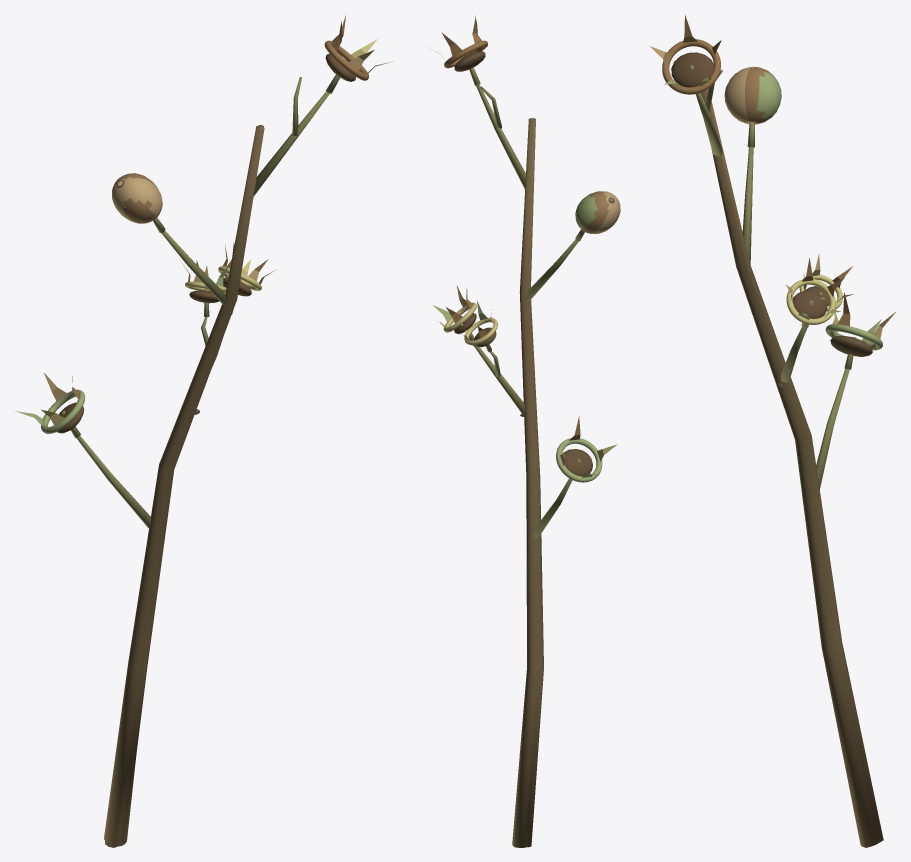
Rendered from branch_variant_C_mixed_brown_01.dae.
3 views of the same model, side by side, from view 1: azimuth 30°, elevation 25°; view 2: azimuth 150°, elevation 25°; view 3: azimuth 270°, elevation 25° (orthographic). The views are drawn at different scales.
Parts seen in each view (by area): view 1: branch_main_C_01, brown_boll_C_01, socket_C_01, socket_C_04, branch_side_C_04, branch_side_C_01, socket_C_03, branch_side_C_03; view 2: branch_main_C_01, socket_C_01, brown_boll_C_01, socket_C_04, socket_C_03, branch_side_C_04, socket_C_02, branch_side_C_03, branch_side_C_02, branch_side_C_01; view 3: branch_main_C_01, socket_C_04, brown_boll_C_01, socket_C_03, socket_C_01, branch_side_C_01, branch_side_C_03, socket_C_02, branch_side_C_04, branch_side_C_02.
Part boxes in pixels (x1=…): branch_main_C_01: x1=104, y1=125, x2=264, y2=847; brown_boll_C_01: x1=112, y1=173, x2=162, y2=223; socket_C_01: x1=15, y1=372, x2=85, y2=433; socket_C_04: x1=324, y1=15, x2=392, y2=81; branch_side_C_04: x1=250, y1=91, x2=329, y2=197; branch_side_C_01: x1=76, y1=436, x2=151, y2=529; socket_C_03: x1=218, y1=243, x2=276, y2=296; branch_side_C_03: x1=161, y1=230, x2=226, y2=305; branch_main_C_01: x1=512, y1=118, x2=543, y2=847; socket_C_01: x1=556, y1=416, x2=617, y2=482; brown_boll_C_01: x1=575, y1=191, x2=620, y2=233; socket_C_04: x1=435, y1=15, x2=487, y2=71; socket_C_03: x1=433, y1=285, x2=476, y2=334; branch_side_C_04: x1=476, y1=84, x2=529, y2=189; socket_C_02: x1=461, y1=301, x2=497, y2=347; branch_side_C_03: x1=524, y1=239, x2=578, y2=301; branch_side_C_02: x1=474, y1=345, x2=524, y2=416; branch_side_C_01: x1=532, y1=478, x2=572, y2=537; branch_main_C_01: x1=701, y1=88, x2=883, y2=847; socket_C_04: x1=650, y1=15, x2=721, y2=94; brown_boll_C_01: x1=724, y1=66, x2=781, y2=124; socket_C_03: x1=785, y1=258, x2=844, y2=324; socket_C_01: x1=825, y1=292, x2=895, y2=356; branch_side_C_01: x1=816, y1=368, x2=849, y2=489; branch_side_C_03: x1=742, y1=147, x2=753, y2=264; socket_C_02: x1=799, y1=254, x2=853, y2=311; branch_side_C_04: x1=695, y1=92, x2=722, y2=156; branch_side_C_02: x1=780, y1=327, x2=806, y2=382.
Bounding box in the file's own units: 0.2107 × 0.1521 × 0.6102.
